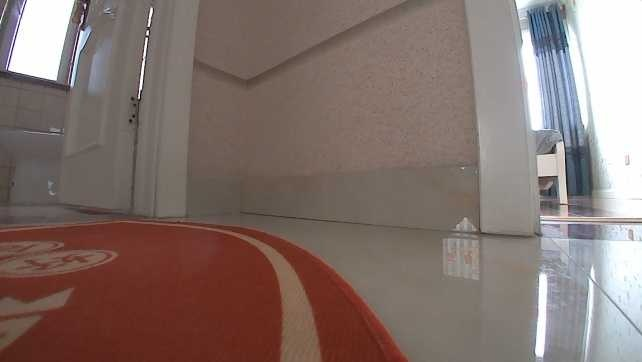blanket: (1, 216, 415, 360)
door_anno: (55, 0, 196, 220)
toilet: (3, 127, 62, 206)
